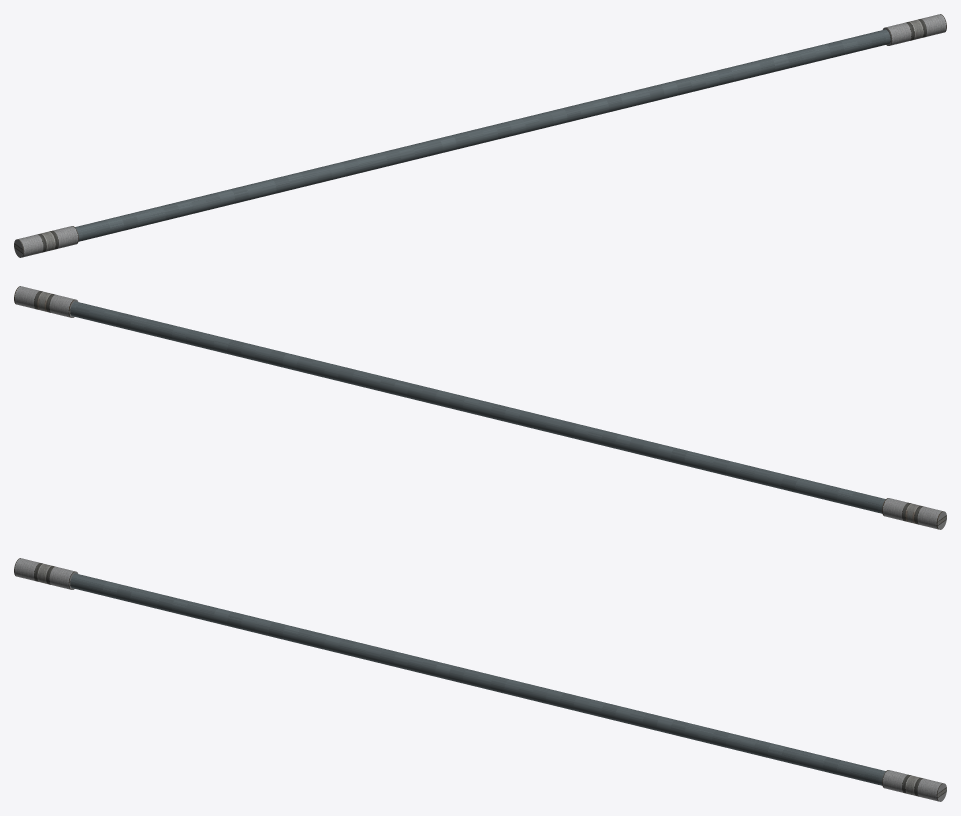
File: curtain-track.glb
3 views of the same model, one above another, from view 1: azimuth 30°, elevation 25°; view 2: azimuth 150°, elevation 25°; view 3: azimuth 330°, elevation 25° (orthographic).
Parts seen in each view (by area): view 1: barrel, flange (×2); view 2: barrel, flange (×2); view 3: barrel, flange (×2).
Part boxes in pixels (x1,y1,x2,y2): barrel: (75,29,890,241); flange (×2): (14,14,946,257); barrel: (70,301,885,513); flange (×2): (14,286,946,529); barrel: (70,573,885,785); flange (×2): (14,558,946,801).
Bounding box in the file's own units: 1.4 × 0.025 × 0.025.
Materials: 2 (2 with a texture image).
